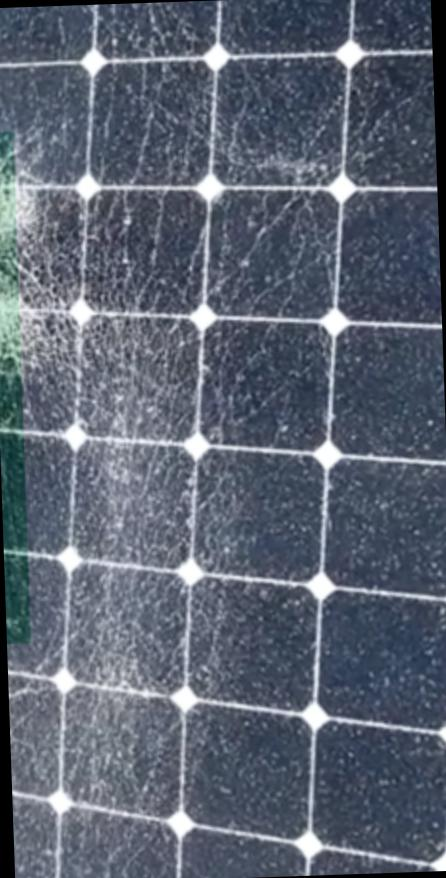Crack: (26, 224, 264, 877), (0, 264, 70, 400), (0, 138, 49, 259)
